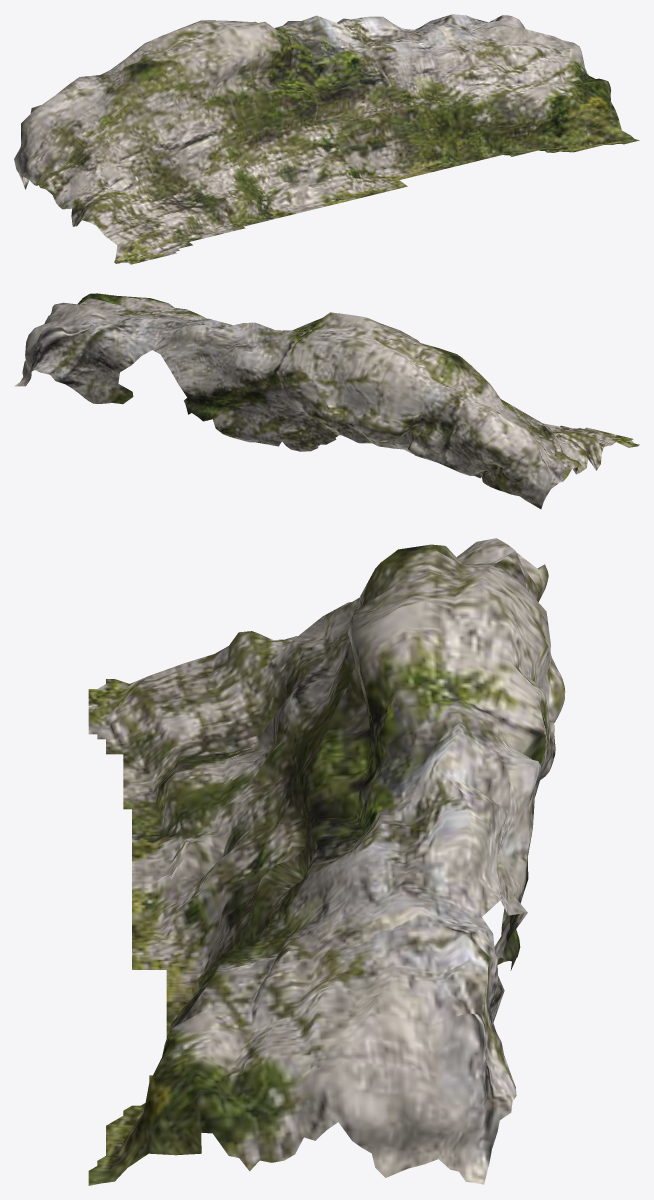
The model's file is MOUNTAIN_1.fbx.
3 renders of one model, top to bottom at view 1: azimuth 30°, elevation 25°; view 2: azimuth 150°, elevation 25°; view 3: azimuth 270°, elevation 25°, orthographic. The views are drawn at different scales.
Visible parts, largest first — view 1: Plane; view 2: Plane; view 3: Plane.
Boxes of the visible parts, x1,y1,x2,y2 form: Plane: (14,14,639,264); Plane: (14,293,639,509); Plane: (88,538,565,1185).
Bounding box in the file's own units: 2570 × 614 × 995.
